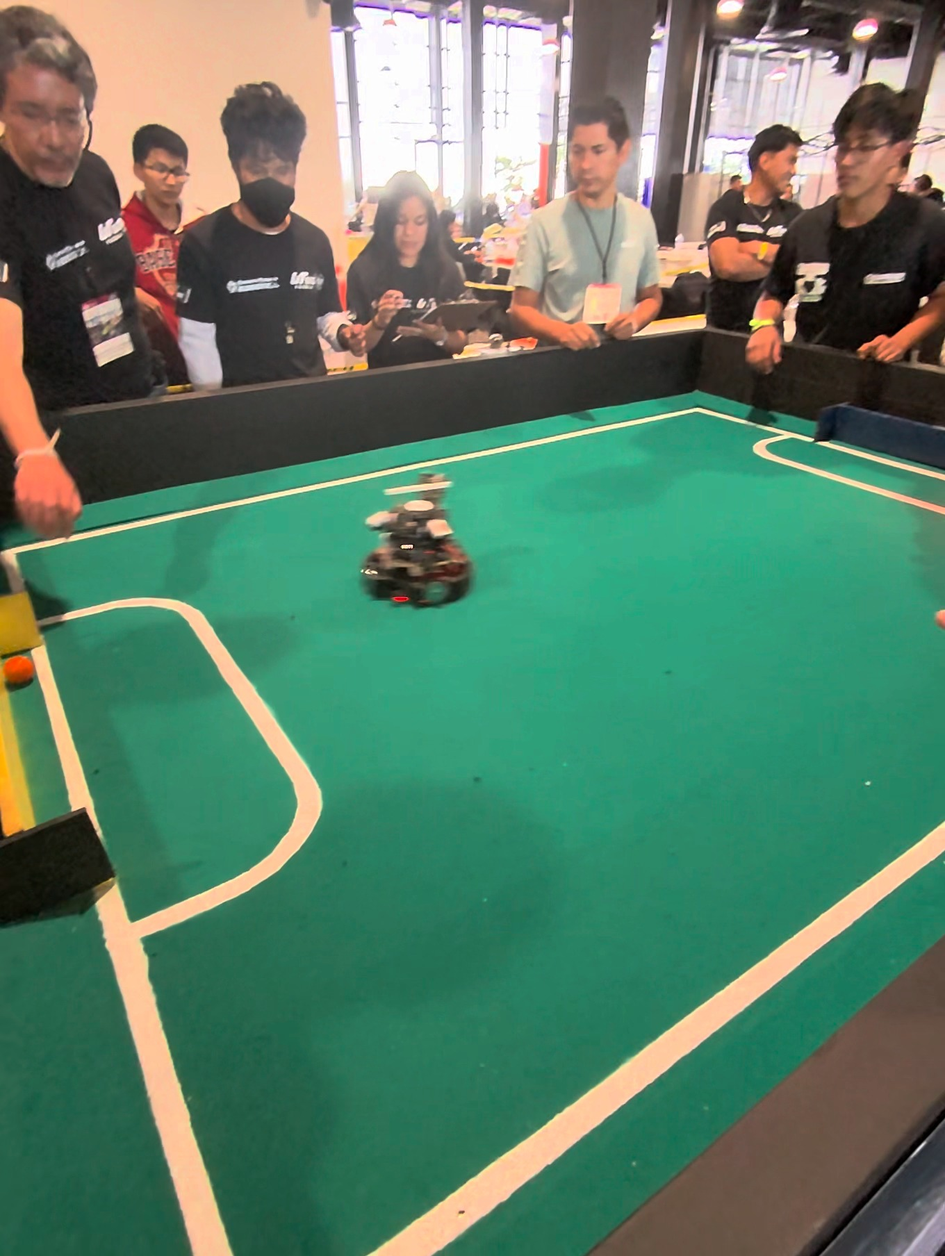Robot: (358, 471, 476, 611)
pelota: (3, 656, 32, 691)
